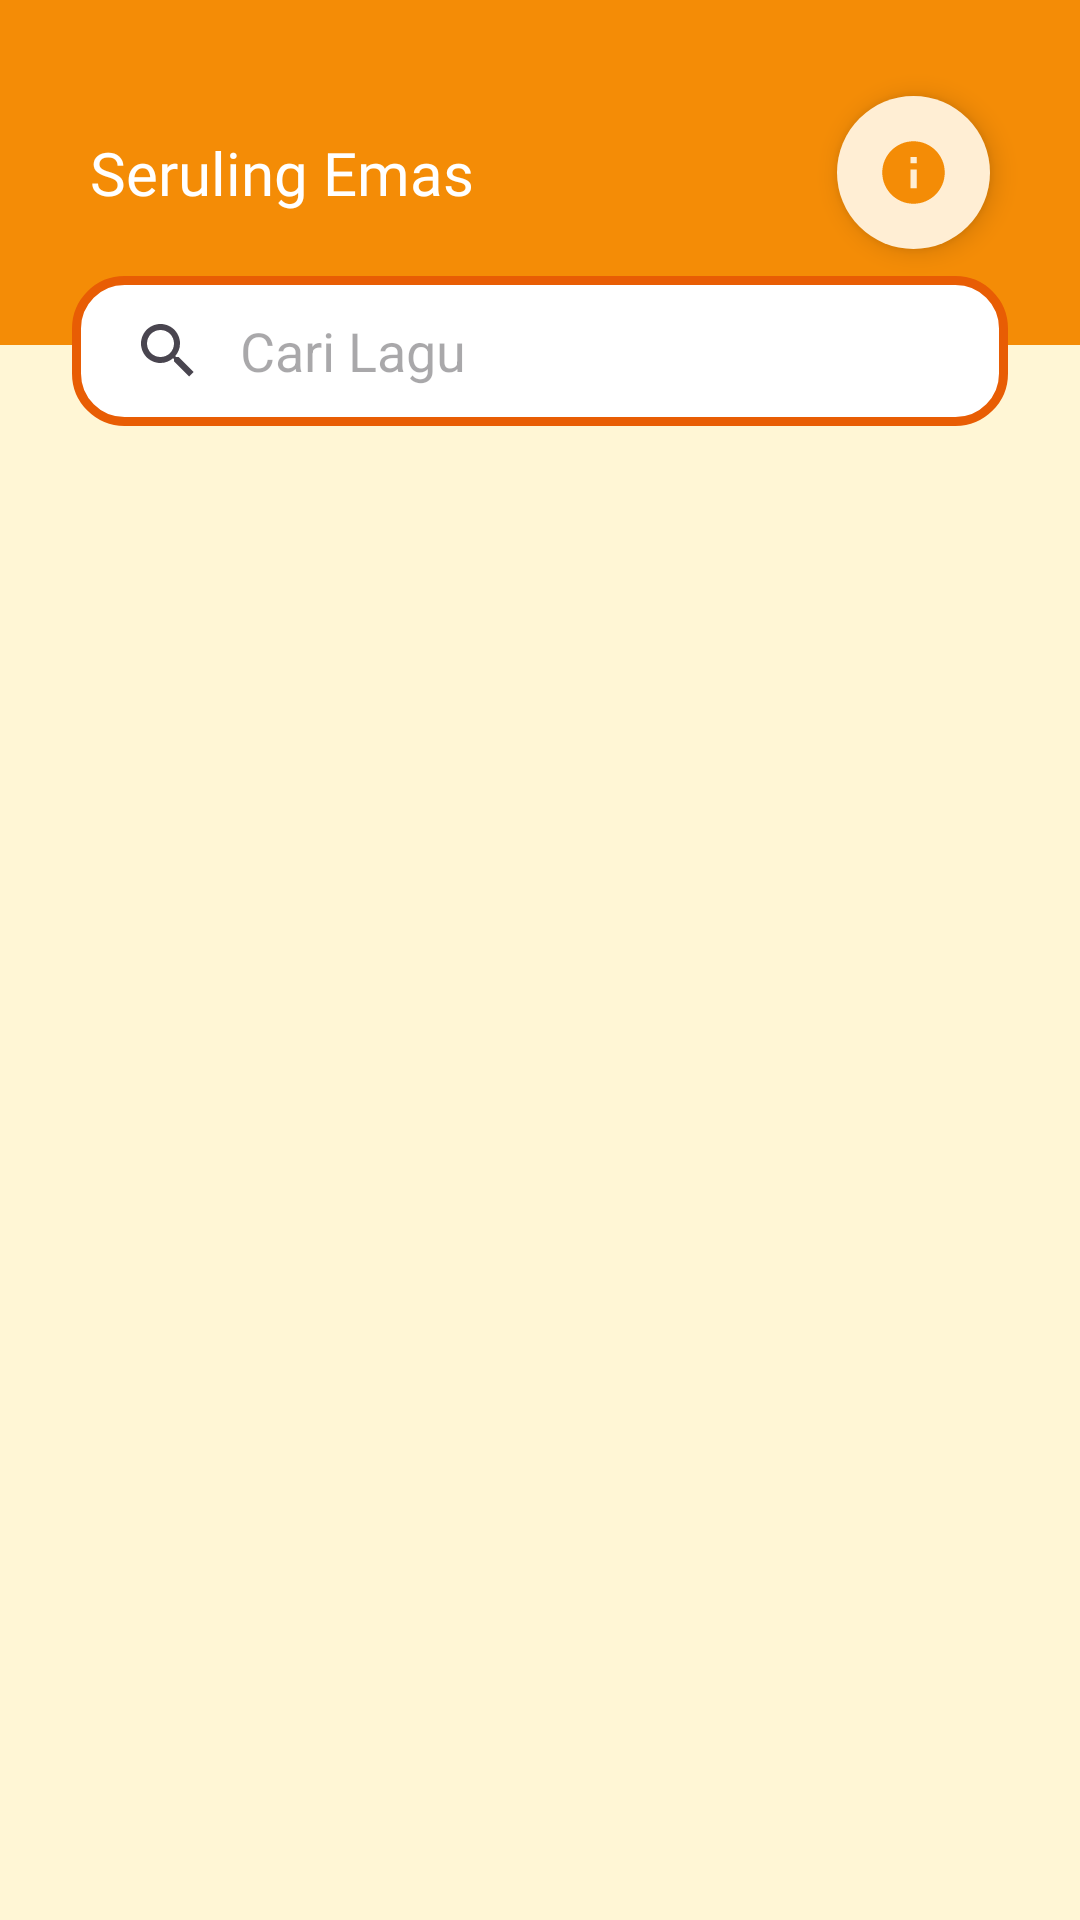

Screen size 1080 x 1920. Icon name, then its center in pixels as (x=x, y=y):
info: (x=913, y=172)
